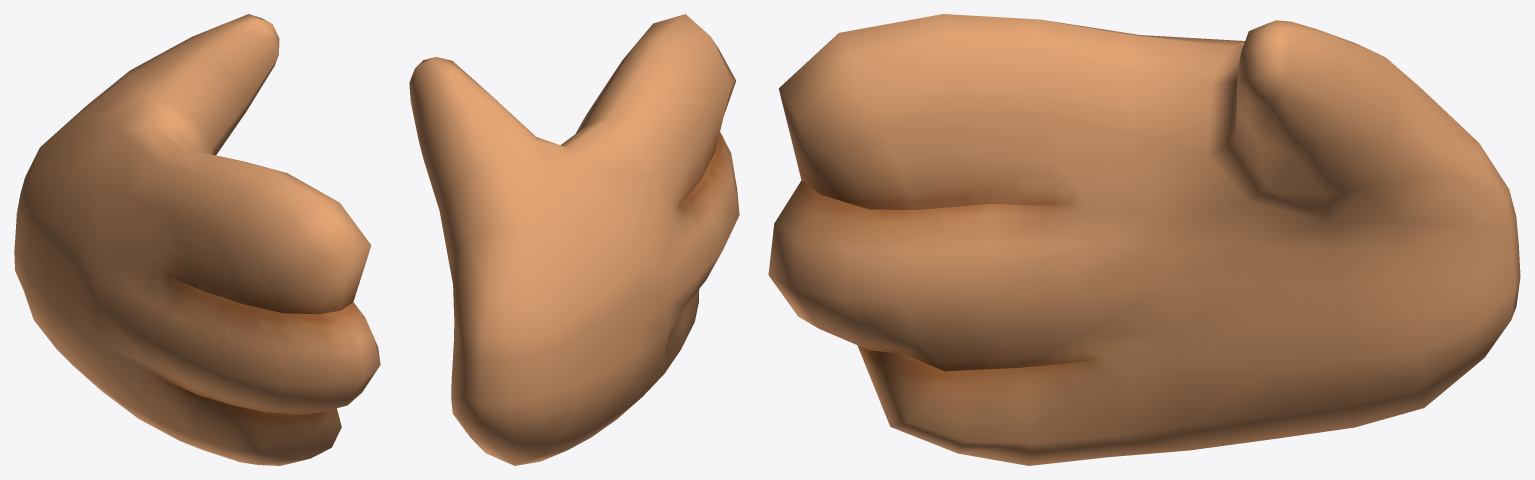
File: Open_R.fbx
The picture shows the model from 3 angles, left to right: view 1: azimuth 30°, elevation 25°; view 2: azimuth 150°, elevation 25°; view 3: azimuth 270°, elevation 25°; orthographic projection. The views are drawn at different scales.
Parts seen in each view (by area): view 1: Hand_Open_R; view 2: Hand_Open_R; view 3: Hand_Open_R.
Part boxes in pixels (bbox=[...]): Hand_Open_R: bbox=[14, 14, 380, 465]; Hand_Open_R: bbox=[409, 14, 739, 465]; Hand_Open_R: bbox=[768, 14, 1520, 465].
Bounding box in the file's own units: 0.1688 × 0.2697 × 0.367.
